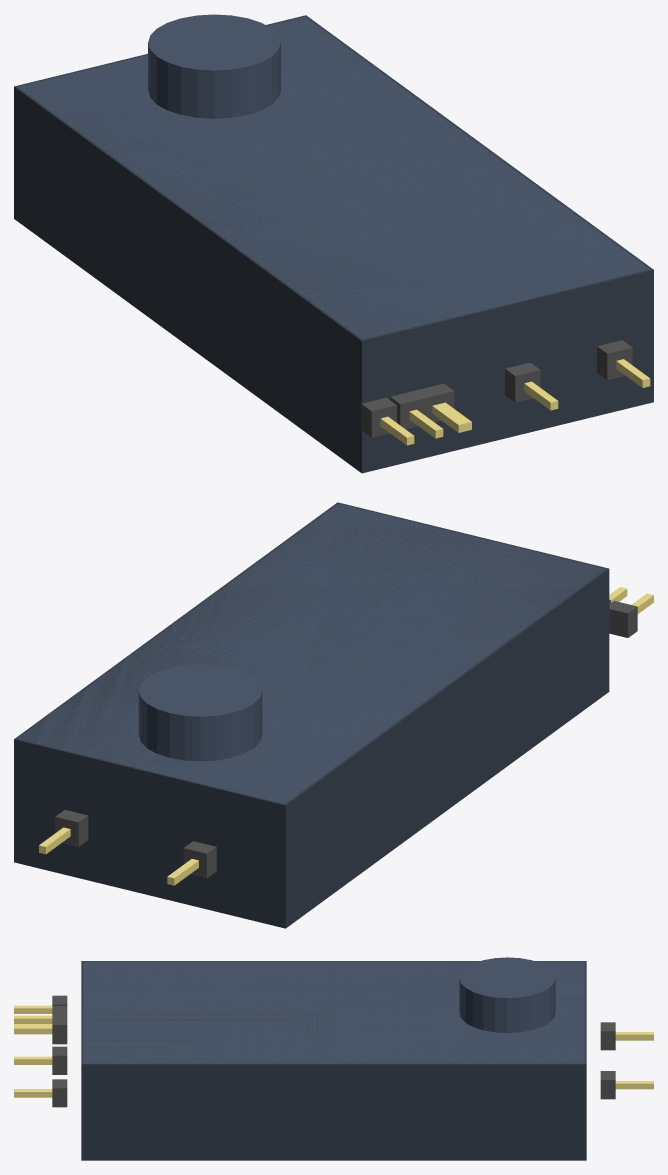
Rendered from esc-30a-bldc.glb.
3 views of the same model, one above another, from view 1: azimuth 30°, elevation 25°; view 2: azimuth 150°, elevation 25°; view 3: azimuth 270°, elevation 25° (orthographic). The views are drawn at different scales.
Visible parts, largest first — view 1: esc-30a-bldc_mesh; view 2: esc-30a-bldc_mesh; view 3: esc-30a-bldc_mesh.
Boxes of the visible parts, x1=… form: esc-30a-bldc_mesh: x1=14, y1=14, x2=653, y2=473; esc-30a-bldc_mesh: x1=14, y1=502, x2=653, y2=928; esc-30a-bldc_mesh: x1=14, y1=957, x2=653, y2=1160.
Size of the model in its own units: 26.3 by 15 by 66.4.
